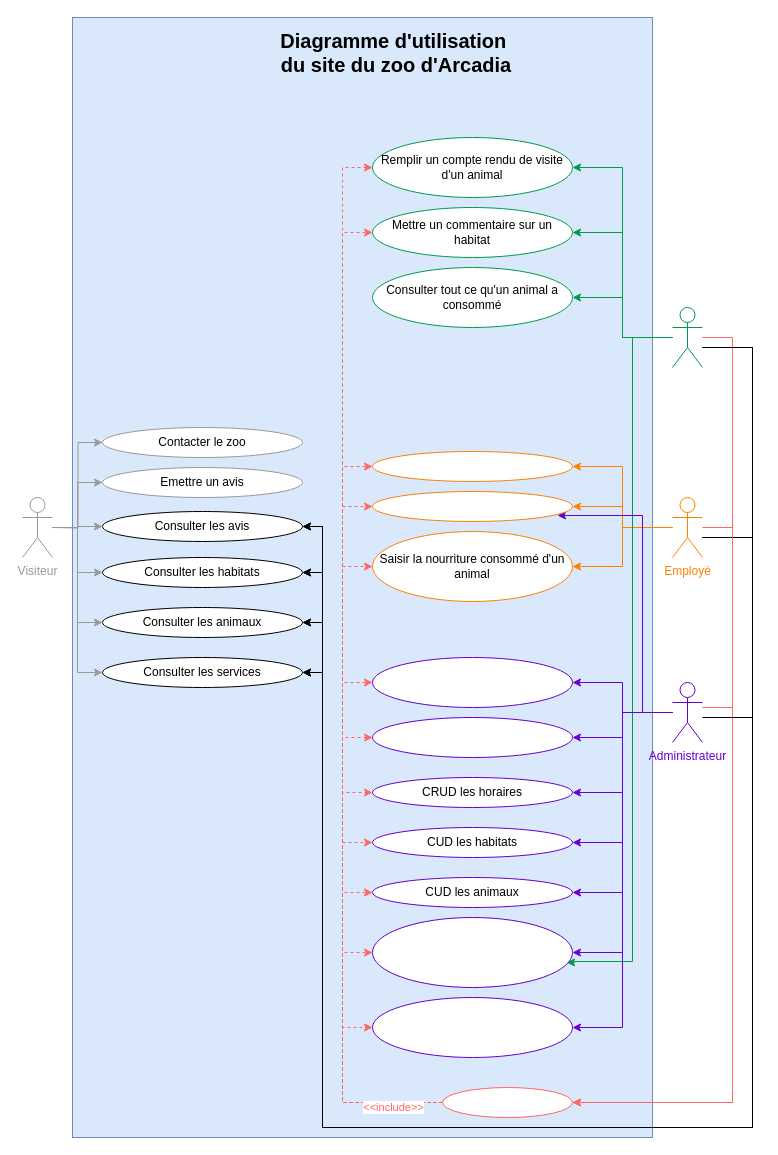
Some shapes in this 778 by 1155 pixel diagram are drawn without their labels. The shapes that lost their labels are listed below. From the top down, each one's centre as x and y in pixels, then its label:
the point at 687,337: Vétérinaire
the point at 472,466: Valider ou invalider un avis
the point at 472,506: Modifier un service
the point at 472,682: CRUD compte vétérinaire / employé
the point at 472,737: CD un service
the point at 472,952: Consulter / filter les comptes rendu vétérinaire
the point at 472,1027: Consulter les statistiques des clics sur les animaux
the point at 507,1102: Se connecter
